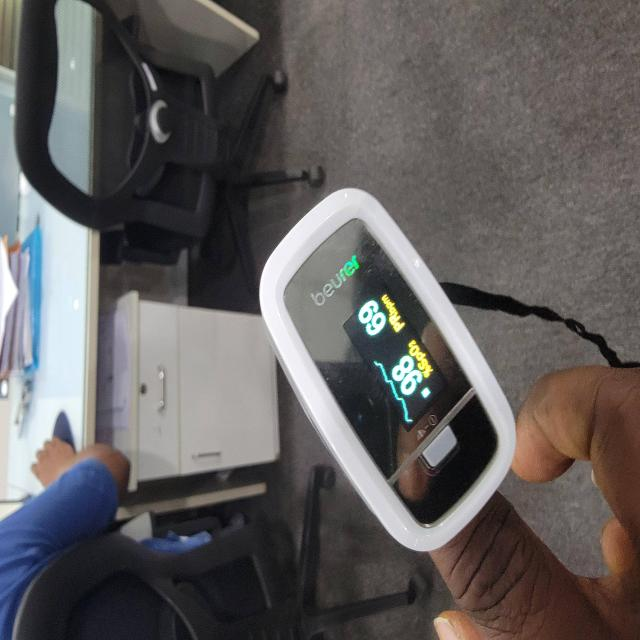spo2: (259, 189, 517, 555)
